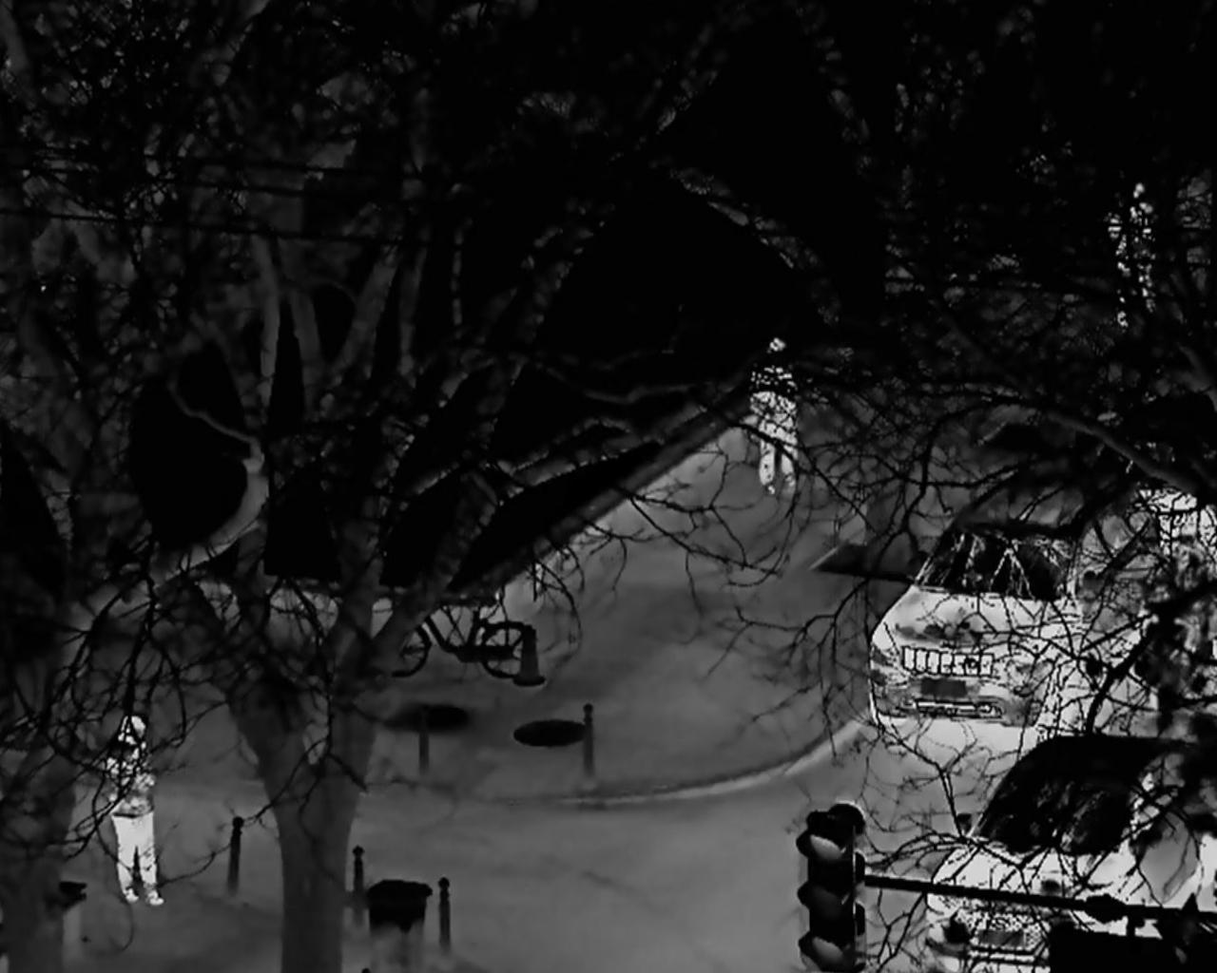person: (106, 715, 164, 906), (750, 365, 799, 494)
